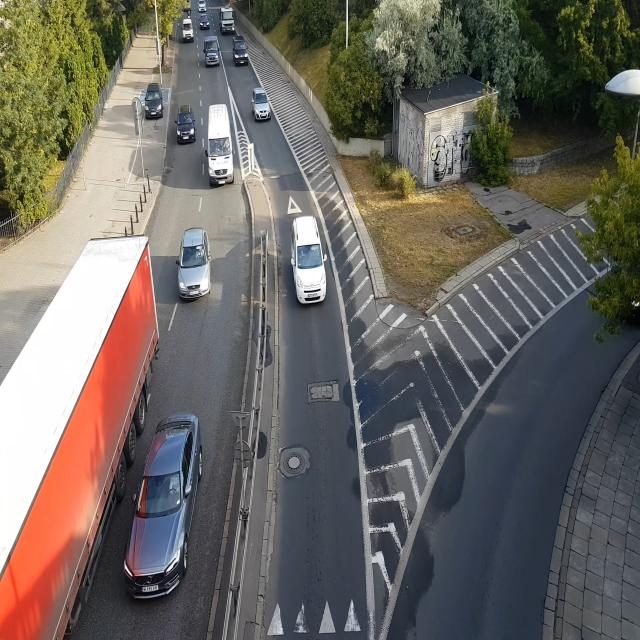car: (123, 409, 202, 615), (286, 210, 333, 310), (202, 106, 239, 184), (177, 225, 216, 295), (175, 107, 199, 146), (250, 90, 274, 122), (146, 82, 165, 120), (232, 38, 252, 71), (205, 35, 221, 73), (221, 2, 237, 36), (182, 17, 196, 39), (198, 12, 214, 30)
truck: (0, 212, 122, 640)
